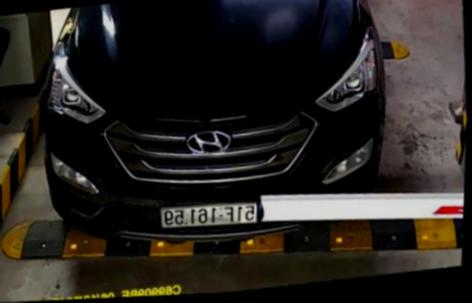License_Plate: (157, 197, 262, 240)
